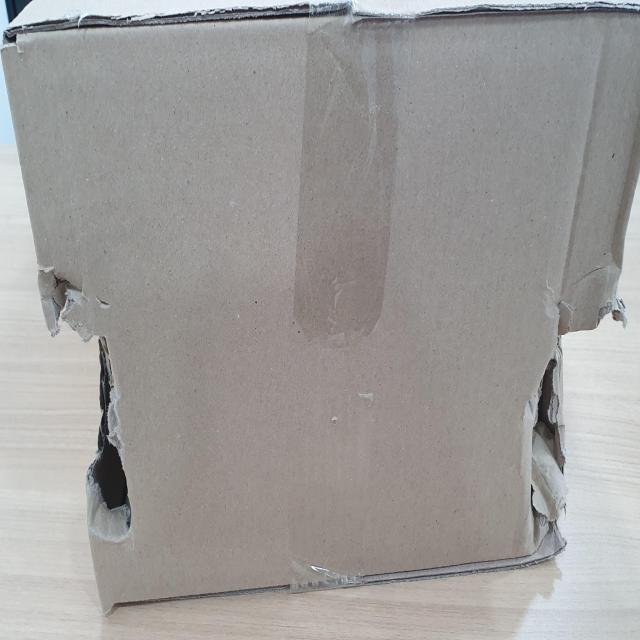damaged: (36, 254, 143, 535), (514, 280, 615, 558)
